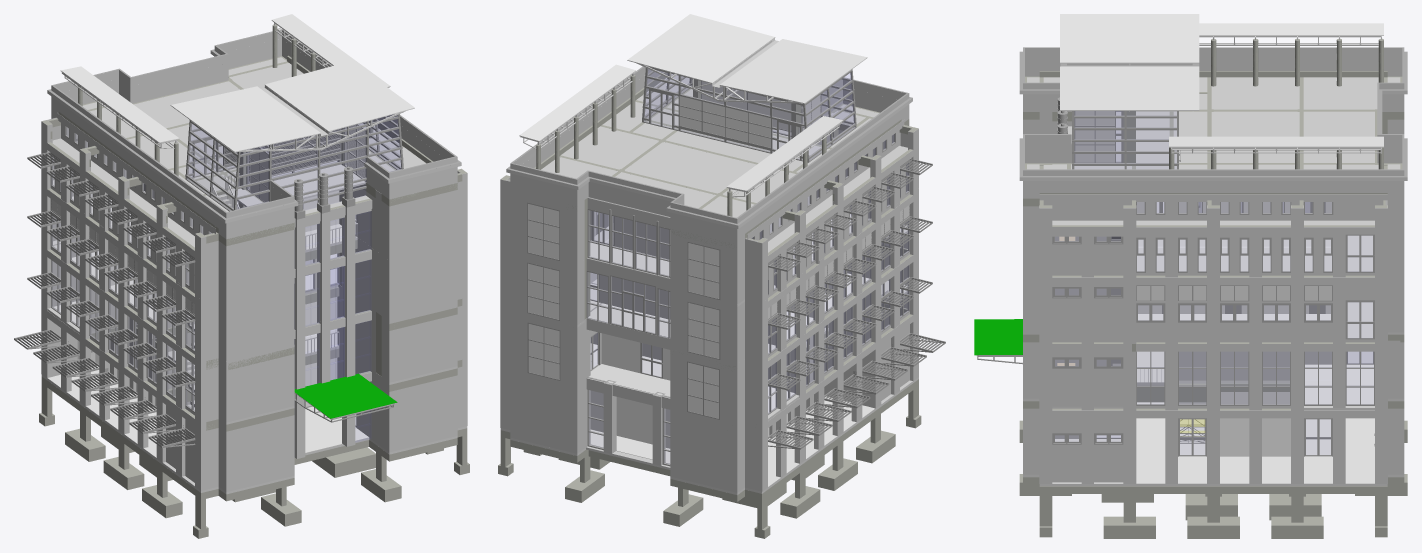
3 renders of one model, left to right at view 1: azimuth 30°, elevation 25°; view 2: azimuth 150°, elevation 25°; view 3: azimuth 270°, elevation 25°, orthographic. The views are drawn at different scales.
Parts seen in each view (by area): view 1: EN001RF, EN00101, EN00104, EN00103, EN00102; view 2: EN001RF, EN00101, EN00104, EN00103, EN00102; view 3: EN001RF, EN00101, EN00104, EN00102, EN00103.
Boxes of the visible parts, x1,y1,x2,y2 form: EN001RF: (47,14,467,246); EN00101: (14,304,469,538); EN00104: (27,77,467,303); EN00103: (27,182,467,369); EN00102: (27,243,467,432); EN001RF: (506,14,913,248); EN00101: (498,301,945,538); EN00104: (500,109,932,307); EN00103: (500,181,932,367); EN00102: (500,244,932,427); EN001RF: (1019,14,1407,215); EN00101: (974,319,1407,538); EN00104: (1023,97,1404,286); EN00102: (1023,332,1404,419); EN00103: (1023,203,1404,353).
Size of the model in its own units: 18.06 by 20.87 by 20.33.
